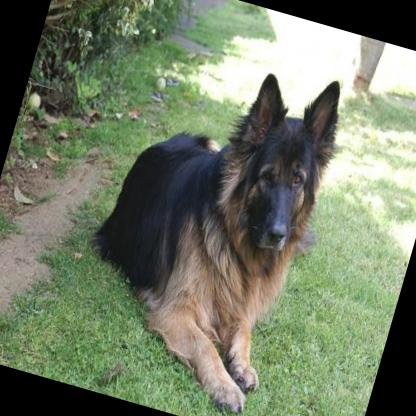German_shepherd: (55, 26, 355, 416)
